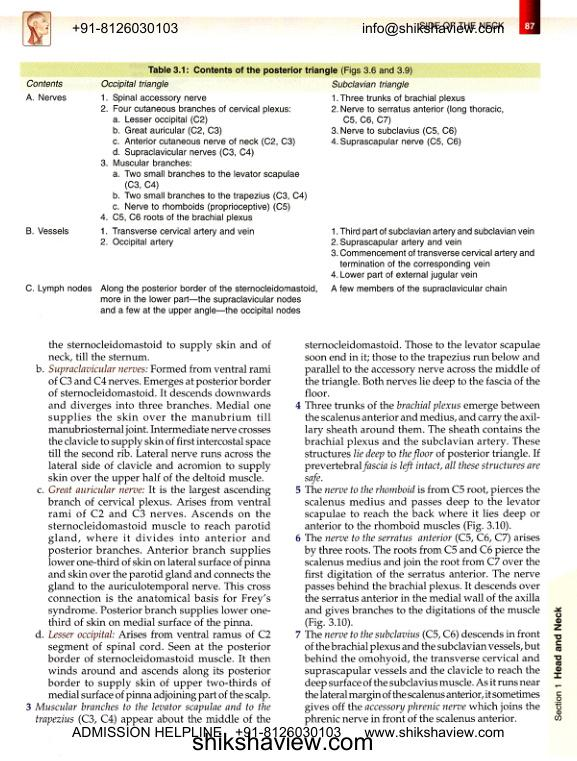caption: (147, 64, 414, 77)
list: (293, 338, 542, 727), (25, 336, 272, 726)
table: (20, 78, 539, 320)
